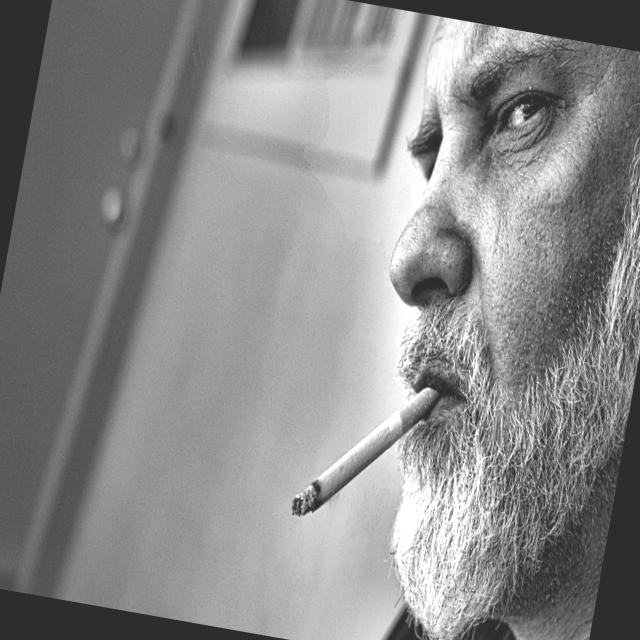cigarette: (274, 352, 422, 562)
